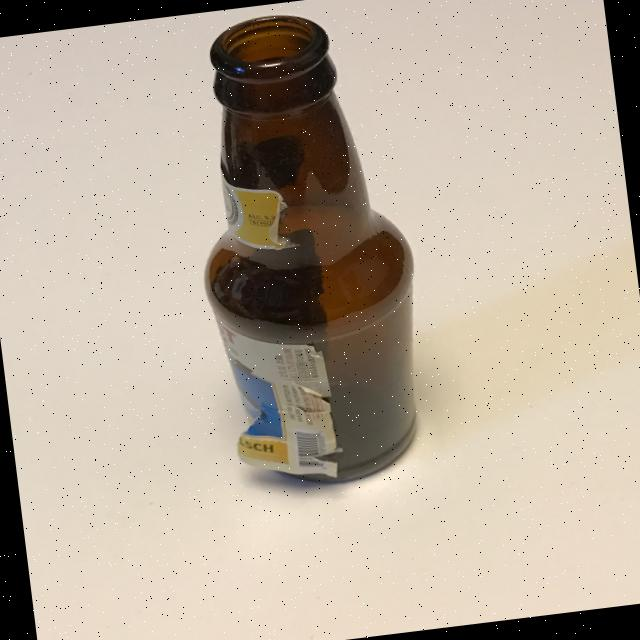glass: (170, 1, 440, 496)
